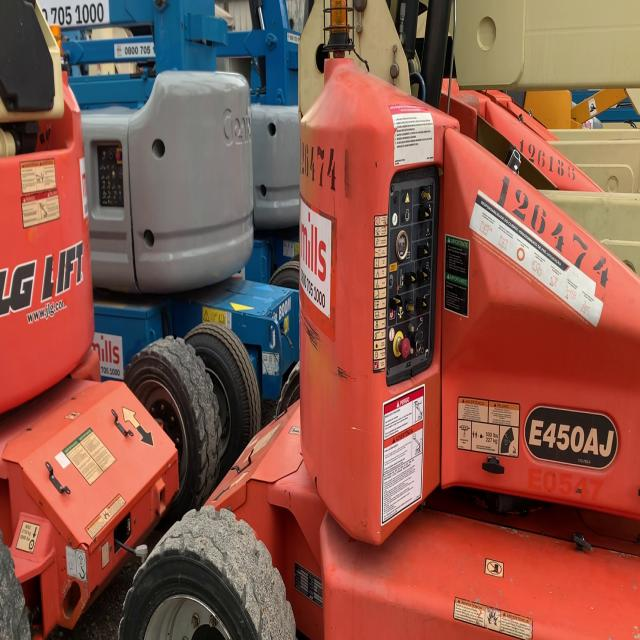Adesivos: (298, 195, 332, 320)
